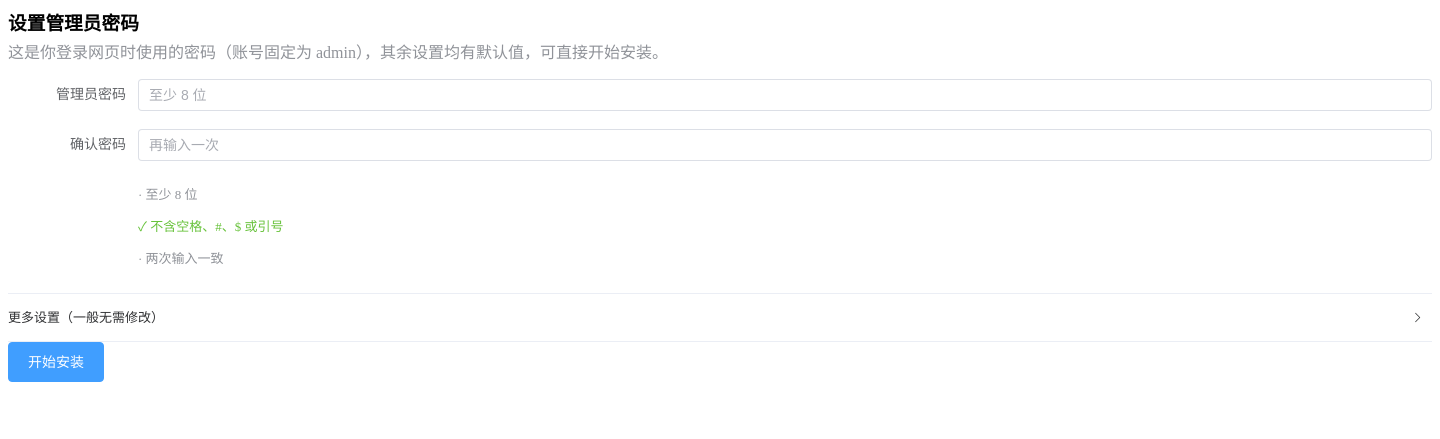
Test case: StepConfig › 密码过短时提交被拦截并提示
The width and height of the screenshot is (1440, 439).
Step 1. Click the button with class "submit" → (56, 362), box x1=8 y1=342 x2=104 y2=382
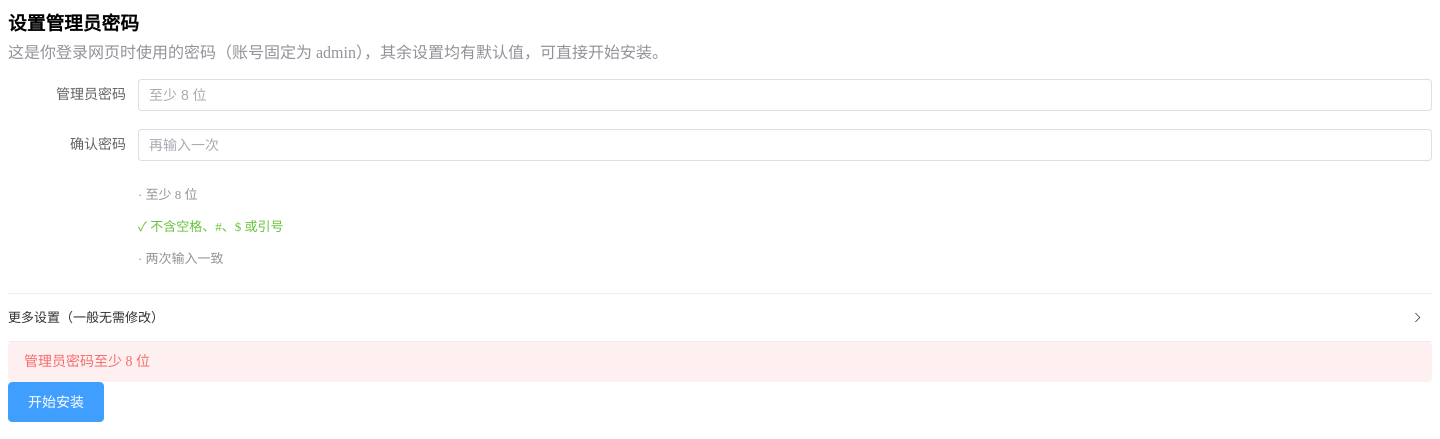
Result: the text "管理员密码至少 8 位" is shown at x1=24 y1=350 x2=150 y2=374
